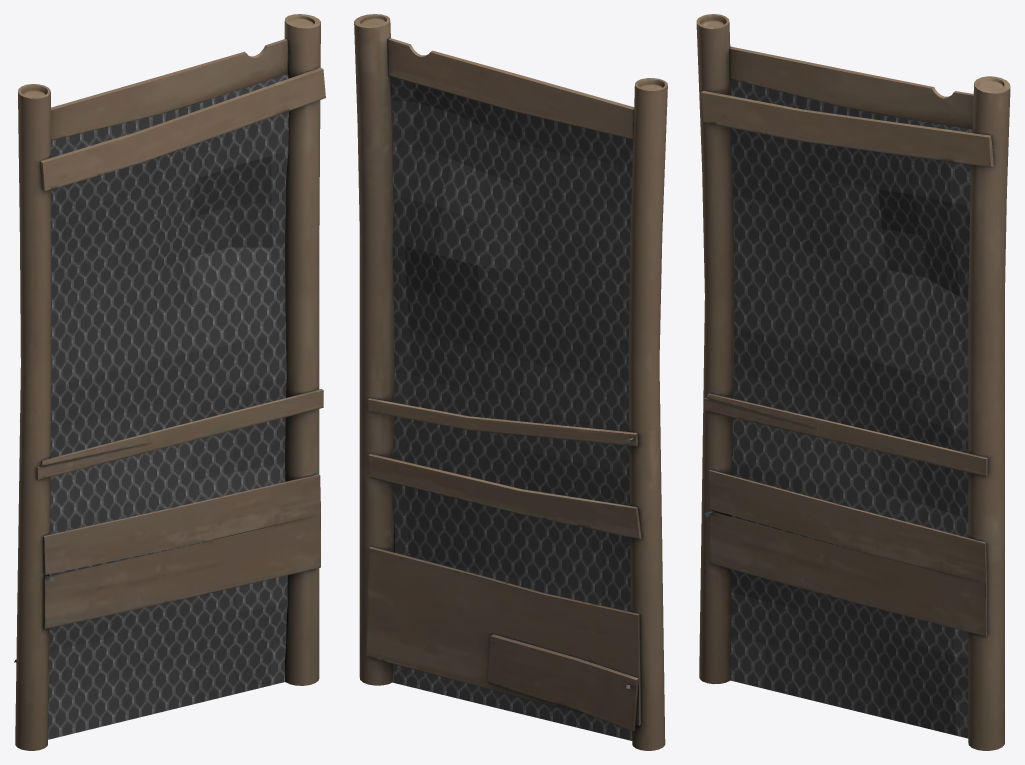
The picture shows the model from 3 angles, left to right: view 1: azimuth 30°, elevation 25°; view 2: azimuth 150°, elevation 25°; view 3: azimuth 330°, elevation 25°; orthographic projection.
Visible parts, largest first — view 1: body0_model0_lod0_mesh1, body0_model0_lod0_mesh0; view 2: body0_model0_lod0_mesh1, body0_model0_lod0_mesh0; view 3: body0_model0_lod0_mesh1, body0_model0_lod0_mesh0.
Part boxes in pixels (<box>): body0_model0_lod0_mesh1: <box>48,74,288,739</box>; body0_model0_lod0_mesh0: <box>14,14,325,750</box>; body0_model0_lod0_mesh1: <box>391,77,633,740</box>; body0_model0_lod0_mesh0: <box>354,14,667,750</box>; body0_model0_lod0_mesh1: <box>730,79,972,738</box>; body0_model0_lod0_mesh0: <box>696,14,1010,750</box>.
Bounding box in the file's own units: 130 × 268 × 24.73.
2 materials, 2 textured.
